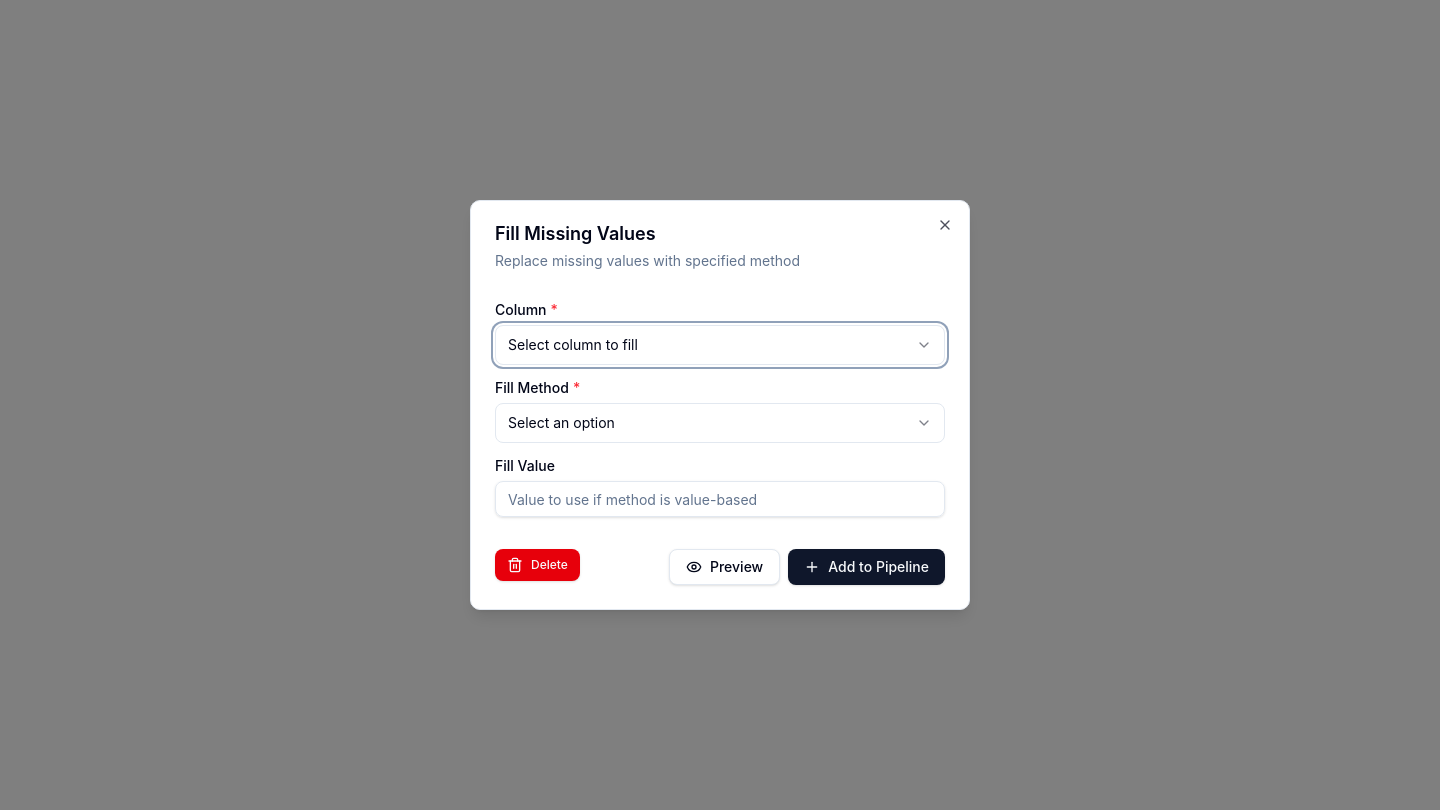
Test: TransformationConfigDialog › Enum Select Parameters › selects enum value
Step 1. Click the dropdown named "Fill Method" → coordinates (561, 422), box x1=495 y1=403 x2=945 y2=443
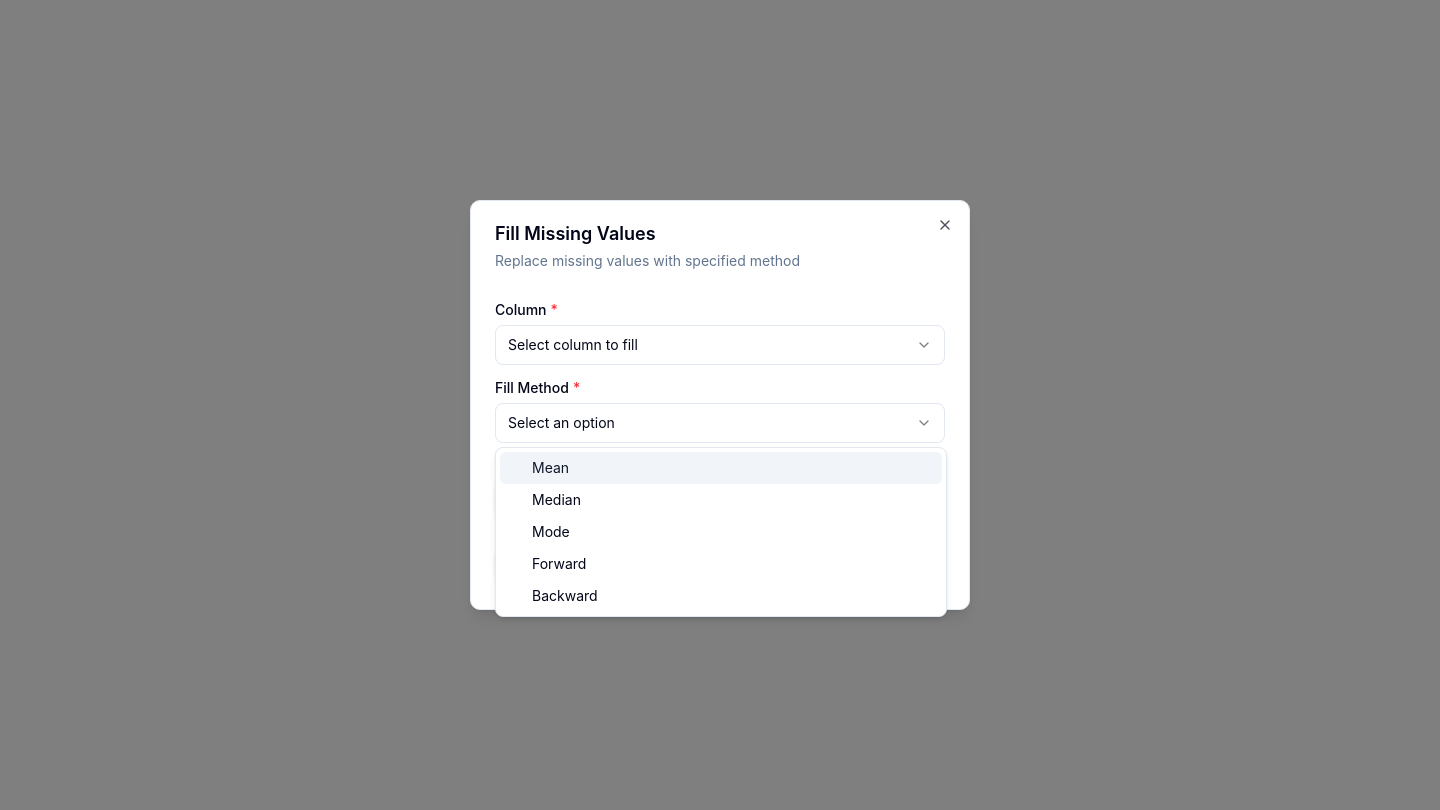
Expected: the option "Median" is shown
Step 2. Click the option "Median" → coordinates (556, 500), box x1=532 y1=491 x2=581 y2=508
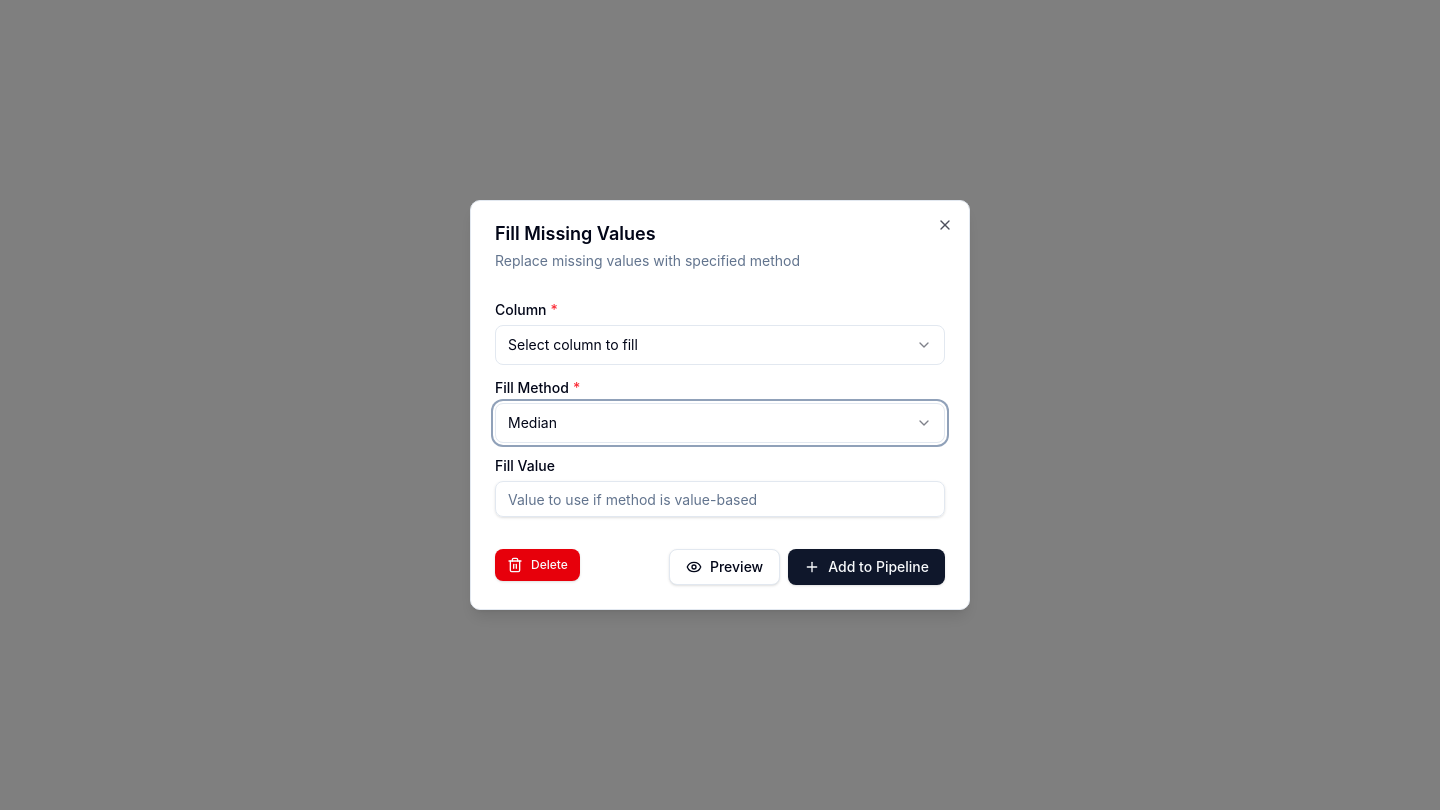
Expected: the dropdown named "Fill Method" reads "Median", x1=495 y1=403 x2=945 y2=443
